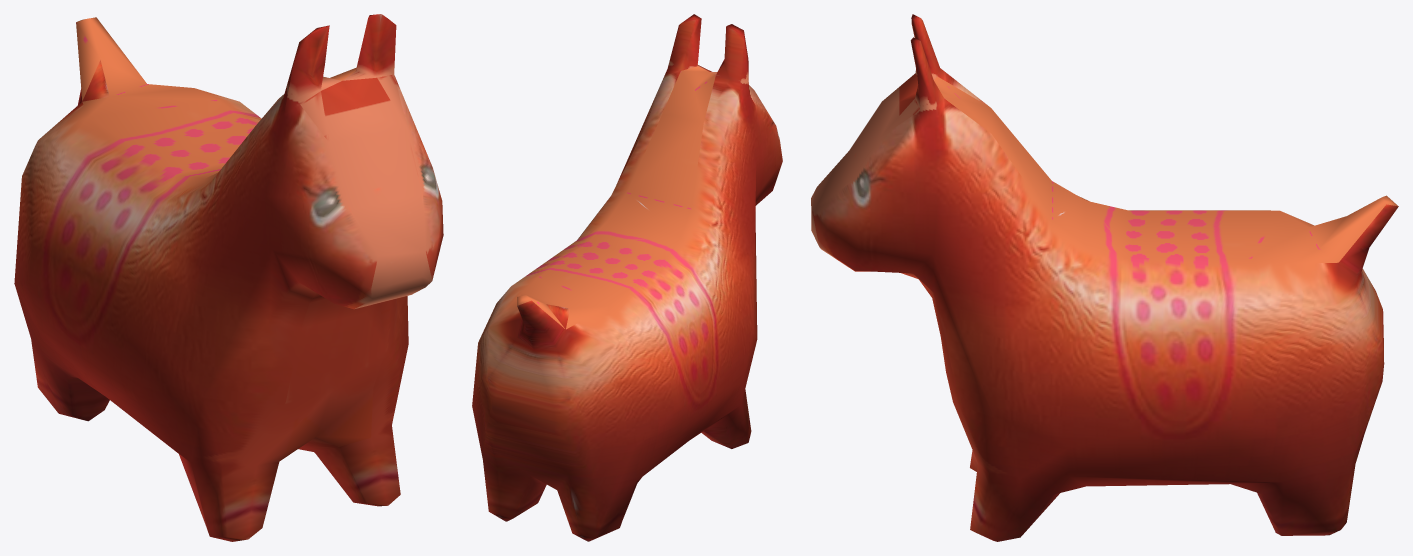
The model's file is DonkModel4.glb.
The picture shows the model from 3 angles, left to right: view 1: azimuth 30°, elevation 25°; view 2: azimuth 150°, elevation 25°; view 3: azimuth 270°, elevation 25°; orthographic projection. The views are drawn at different scales.
Parts seen in each view (by area): view 1: Donk.001; view 2: Donk.001; view 3: Donk.001.
Boxes of the visible parts, box(x1,y1,x2,y2) form: Donk.001: box(14, 14, 443, 541); Donk.001: box(472, 14, 782, 541); Donk.001: box(811, 14, 1398, 541).
Size of what is drawn, in the model's own units: 0.4721 by 0.8951 by 0.9865.
1 material, 1 textured.
